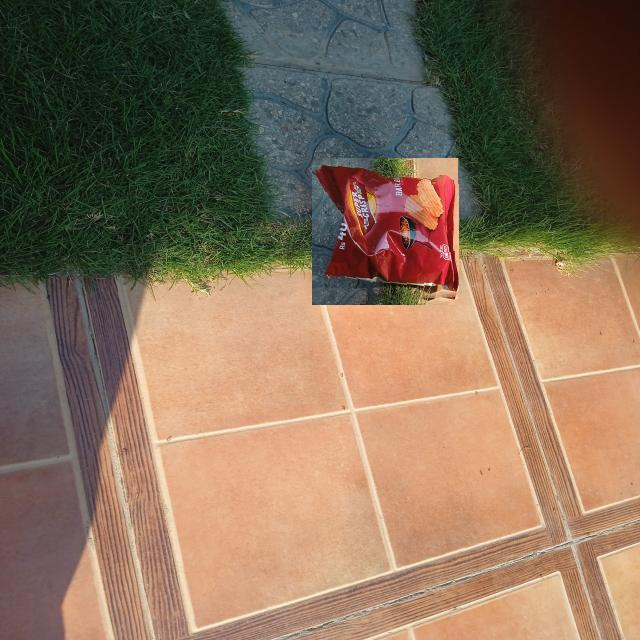Plastic: (312, 158, 459, 305)
